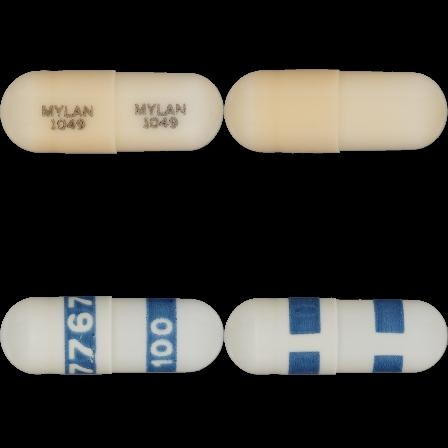53217-070: (0, 0, 224, 224)
